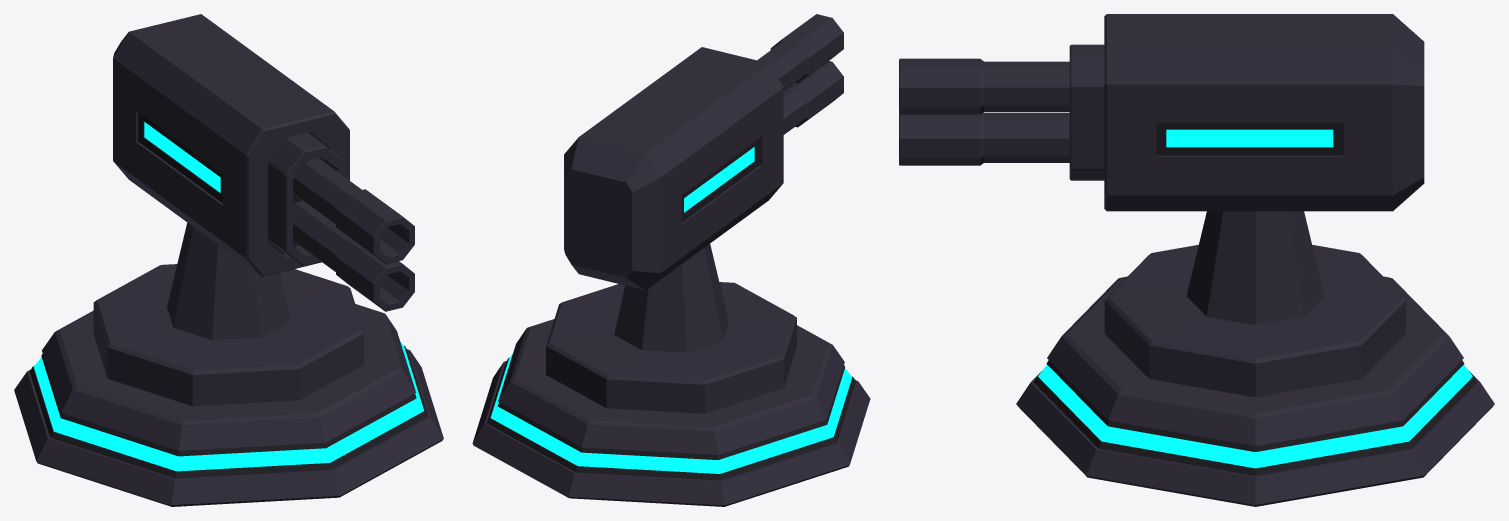
The model's file is SM_Tourelle.fbx.
The picture shows the model from 3 angles, left to right: view 1: azimuth 30°, elevation 25°; view 2: azimuth 150°, elevation 25°; view 3: azimuth 270°, elevation 25°; orthographic projection. The views are drawn at different scales.
Parts seen in each view (by area): view 1: SM_Tourelle_Base, SM_Tourelle_Gun; view 2: SM_Tourelle_Base, SM_Tourelle_Gun; view 3: SM_Tourelle_Base, SM_Tourelle_Gun.
Part boxes in pixels (x1=…): SM_Tourelle_Base: x1=14, y1=223, x2=443, y2=506; SM_Tourelle_Gun: x1=113, y1=14, x2=414, y2=311; SM_Tourelle_Base: x1=472, y1=244, x2=870, y2=506; SM_Tourelle_Gun: x1=564, y1=14, x2=843, y2=290; SM_Tourelle_Base: x1=1016, y1=211, x2=1494, y2=506; SM_Tourelle_Gun: x1=899, y1=14, x2=1424, y2=211.
Bounding box in the file's own units: 110 × 95.13 × 137.
